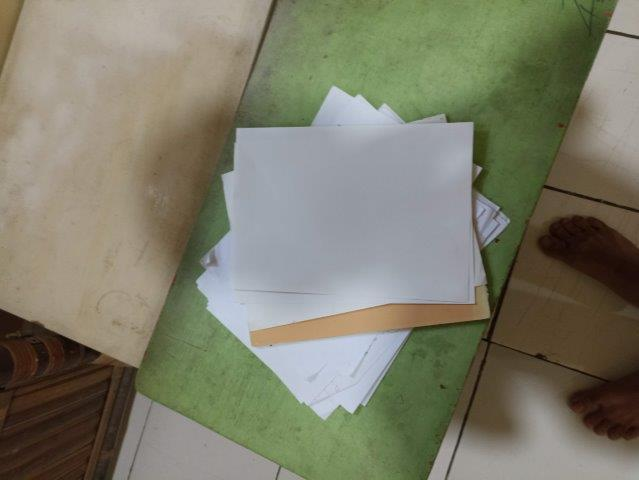kertas: (196, 86, 510, 420)
